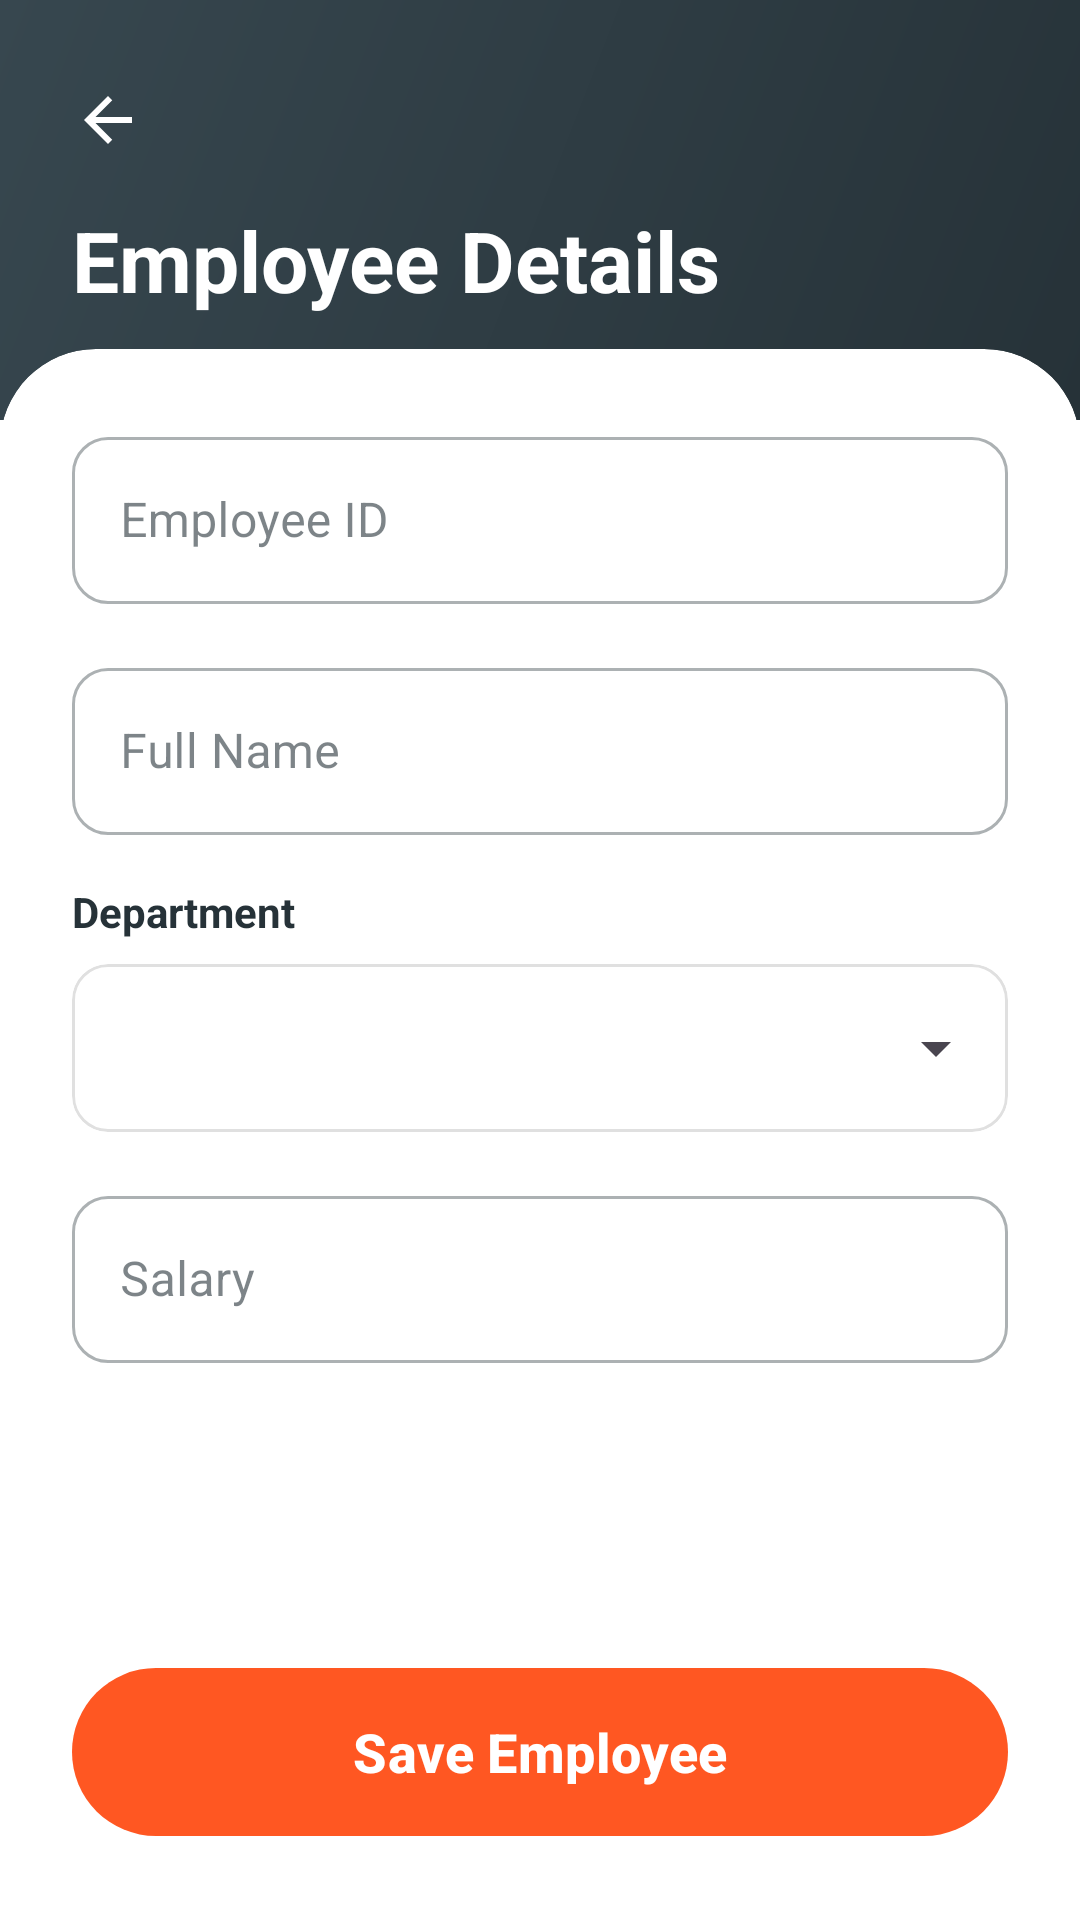

Screen size 1080×1920. Icon name, then its box in pixels as detection(x1, y1, x2, y2):
Back: detection(84, 96, 132, 144)
